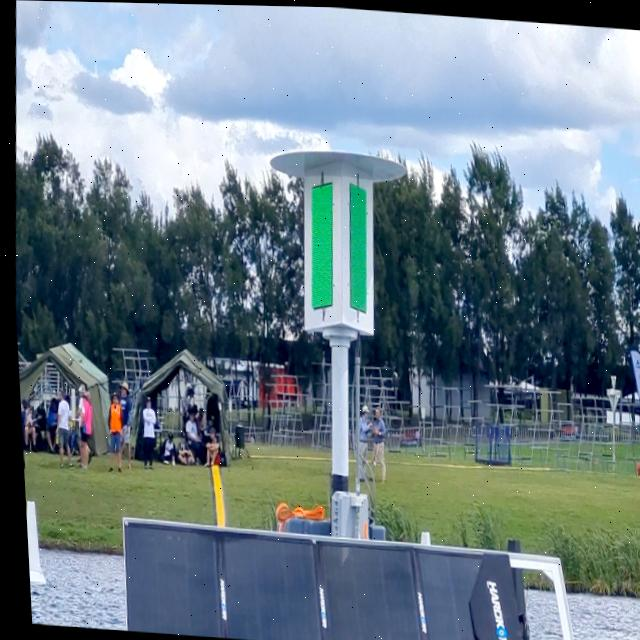led: (299, 171, 341, 321), (335, 167, 374, 321)
